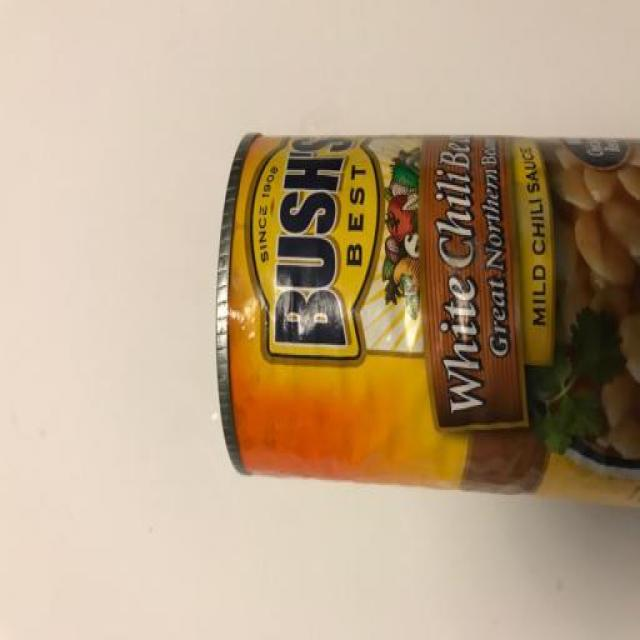metel: (192, 118, 640, 527)
